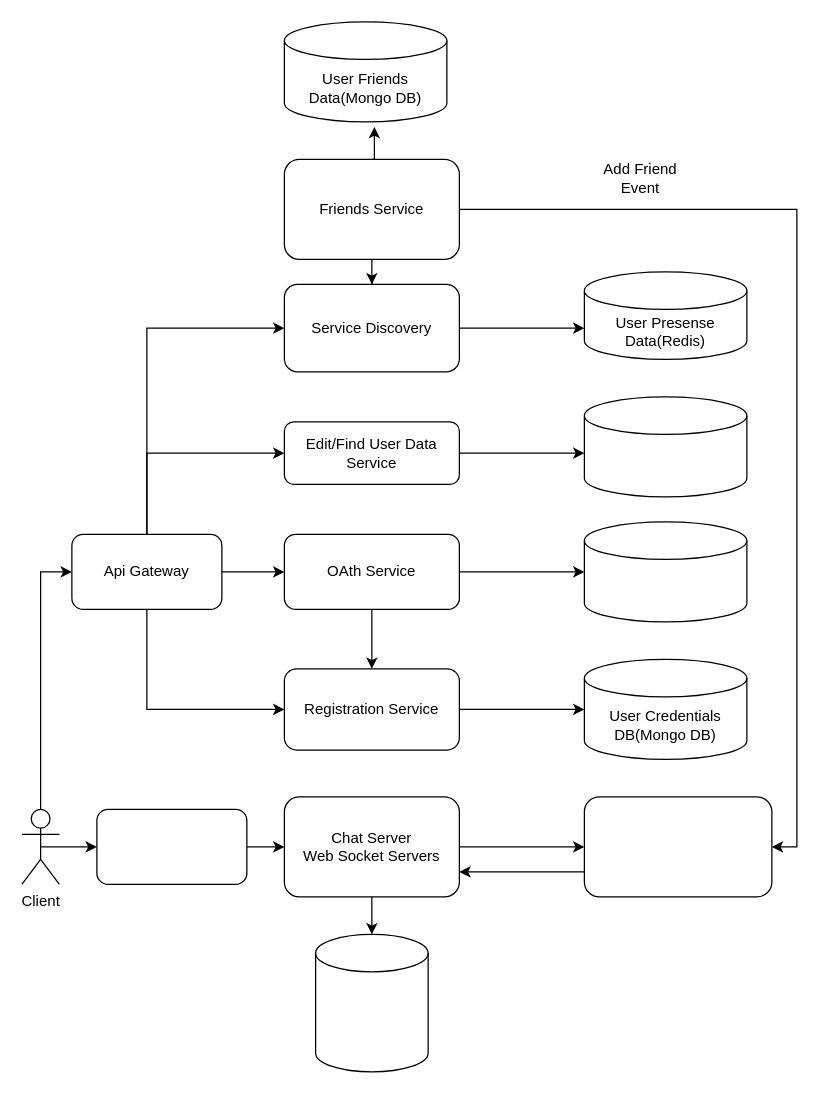
The diagram is 829 pixels wide and 1094 high, and some of its shapes have lost their labels. The centre of each missing label's shape, as x and y in pixels:
"Balancer(Sticky Sessions)(Nginx)" goes at (x=171, y=846).
"Chat/Message Data(Mongo Db)" goes at (x=371, y=1002).
"Kafka" goes at (x=677, y=846).
"Storage For Tokens(Redis)" goes at (x=665, y=571).
"User Profile Data(Mongo DB)" goes at (x=665, y=446).
